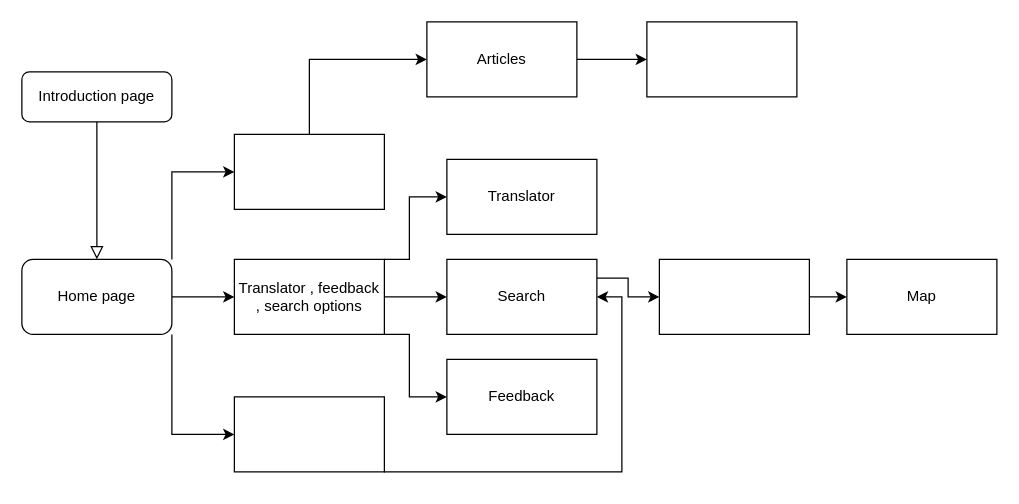
Some shapes in this 1019 by 504 pixel diagram are drawn without their labels. Here are the shapes that lost their labels. From the top down, the centre of each, then its label:
At pixel 721 59: "External source".
At pixel 308 171: "Article options".
At pixel 733 296: "Place details".
At pixel 308 434: "A basic panel with a quote".
